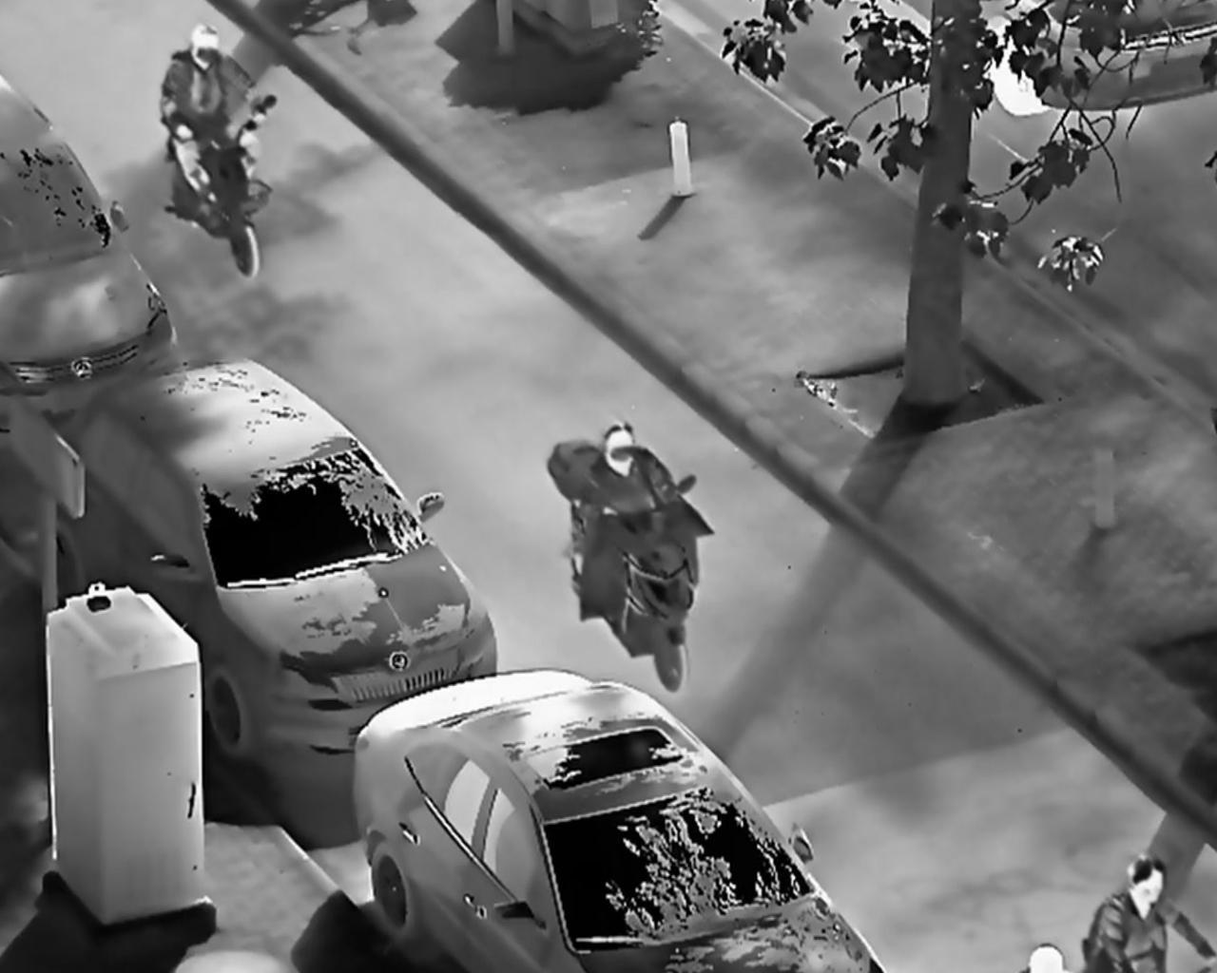person: (159, 21, 280, 228), (568, 422, 703, 597), (1078, 847, 1211, 973)
